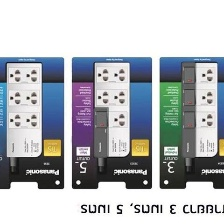book: (69, 55, 153, 190), (156, 51, 224, 193), (0, 53, 69, 191)
three_eye_plug: (2, 60, 45, 160), (90, 58, 131, 158), (179, 59, 220, 159)
